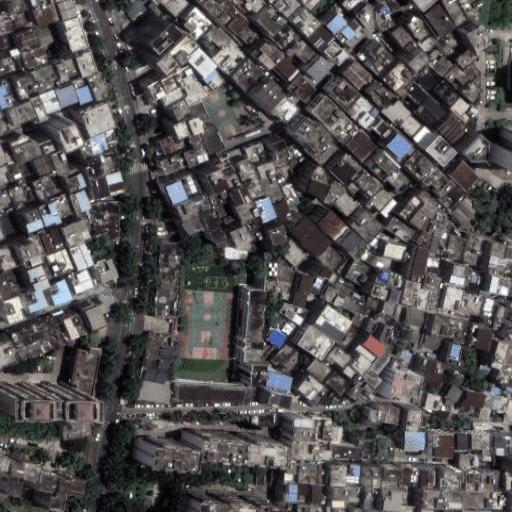building: (427, 51, 485, 105), (182, 428, 269, 462), (234, 286, 258, 380), (389, 184, 436, 231), (4, 316, 60, 355), (286, 112, 333, 158), (284, 208, 331, 254), (137, 57, 189, 98), (136, 24, 181, 67), (30, 465, 77, 505), (185, 491, 271, 512), (72, 346, 101, 407), (139, 330, 171, 383), (292, 155, 333, 196), (325, 146, 365, 187), (172, 382, 247, 402), (243, 33, 282, 71), (302, 300, 341, 338), (362, 143, 400, 181), (68, 97, 105, 135), (340, 90, 377, 128), (354, 38, 391, 75), (417, 94, 454, 131), (398, 142, 435, 179), (324, 109, 361, 146), (345, 165, 382, 202), (289, 321, 327, 357), (252, 156, 283, 199), (213, 36, 250, 72), (373, 56, 410, 92), (134, 439, 183, 466), (285, 2, 321, 38), (360, 76, 396, 112), (380, 366, 416, 402), (339, 58, 375, 93), (250, 0, 285, 35), (11, 230, 44, 267), (30, 169, 65, 203), (248, 70, 283, 104), (322, 75, 357, 109), (158, 168, 195, 200), (166, 187, 204, 218), (320, 285, 362, 313), (176, 1, 210, 35), (400, 79, 434, 113), (306, 94, 340, 128), (344, 128, 378, 162), (344, 204, 378, 238), (402, 7, 435, 42), (133, 12, 168, 45), (37, 110, 68, 147), (157, 242, 182, 286), (417, 127, 450, 160), (378, 128, 411, 161), (384, 163, 417, 196), (223, 4, 253, 40), (198, 17, 230, 49), (233, 55, 265, 87), (381, 95, 413, 127), (436, 112, 468, 144), (450, 123, 482, 155), (362, 180, 394, 212), (282, 31, 316, 61), (61, 15, 89, 51), (419, 160, 450, 192), (313, 136, 344, 168), (316, 176, 347, 208), (307, 203, 339, 234), (290, 370, 322, 401), (70, 300, 101, 331), (268, 17, 299, 48), (266, 340, 297, 371), (363, 346, 393, 378), (482, 333, 511, 366), (55, 214, 87, 243), (198, 0, 236, 24), (79, 127, 109, 157), (299, 47, 329, 77), (445, 90, 475, 120), (64, 184, 93, 215), (44, 250, 75, 279), (425, 74, 456, 103), (4, 96, 36, 124), (426, 311, 458, 339), (388, 16, 415, 49), (262, 131, 289, 164), (479, 271, 512, 298), (266, 89, 296, 118), (407, 57, 437, 86), (227, 151, 256, 181), (327, 220, 356, 250), (379, 208, 409, 237), (450, 161, 480, 190), (51, 307, 79, 338), (197, 122, 224, 154), (154, 148, 186, 175), (41, 280, 70, 309), (322, 37, 351, 66), (307, 23, 336, 52), (282, 71, 311, 100), (398, 110, 427, 139), (436, 254, 465, 283), (319, 367, 348, 396), (26, 60, 56, 88), (152, 283, 176, 318), (490, 129, 512, 167), (452, 290, 484, 316), (18, 39, 46, 68), (278, 235, 306, 264), (439, 179, 467, 208), (67, 241, 94, 271), (21, 261, 47, 292), (434, 277, 460, 308), (244, 463, 270, 494), (55, 56, 83, 84), (20, 288, 48, 316), (222, 213, 249, 242), (80, 152, 106, 182), (214, 156, 238, 188), (401, 243, 424, 276), (364, 113, 392, 140), (334, 188, 361, 216), (343, 256, 370, 284), (325, 344, 353, 371), (54, 80, 80, 109), (4, 130, 30, 159), (187, 101, 213, 130), (376, 237, 405, 263), (195, 203, 219, 234), (0, 239, 21, 274), (270, 54, 297, 81), (374, 190, 400, 218), (34, 226, 56, 259), (3, 69, 28, 98), (242, 173, 267, 202), (326, 483, 362, 503), (478, 290, 501, 321), (29, 150, 56, 176), (458, 18, 484, 45), (83, 70, 108, 98), (174, 208, 202, 233), (396, 301, 424, 326), (409, 353, 438, 377), (497, 339, 512, 385), (317, 6, 343, 32), (355, 329, 382, 354), (37, 198, 61, 226), (281, 433, 310, 456), (48, 142, 70, 172), (460, 487, 490, 509), (6, 23, 32, 48), (98, 146, 123, 172), (57, 166, 82, 192), (85, 260, 110, 286), (446, 41, 471, 67), (303, 357, 329, 382), (75, 50, 99, 77), (14, 203, 38, 230), (268, 192, 292, 219), (444, 233, 468, 260), (418, 426, 445, 450), (279, 180, 302, 208), (58, 416, 91, 435), (203, 186, 228, 211), (372, 321, 397, 346), (69, 267, 93, 293), (430, 463, 456, 487), (39, 87, 62, 114), (191, 163, 214, 190), (470, 322, 493, 349), (393, 73, 417, 98), (7, 183, 30, 209), (157, 132, 183, 155), (253, 195, 276, 221), (266, 0, 299, 18), (479, 255, 506, 277), (282, 413, 309, 435), (298, 456, 320, 483), (499, 49, 512, 94), (379, 269, 403, 293), (346, 377, 370, 401), (433, 173, 456, 198), (374, 483, 397, 508), (52, 193, 73, 220), (229, 184, 252, 208), (260, 215, 284, 238), (453, 196, 477, 219), (422, 392, 445, 416), (358, 292, 381, 316), (461, 386, 486, 408), (186, 130, 207, 156), (360, 278, 386, 299), (234, 26, 257, 49), (334, 15, 357, 38), (455, 465, 478, 488), (353, 0, 377, 22), (422, 331, 446, 353), (440, 337, 462, 361), (309, 435, 331, 459), (414, 485, 439, 506), (451, 317, 471, 343), (357, 460, 377, 486), (296, 482, 322, 502), (329, 443, 359, 460), (461, 429, 484, 451), (364, 250, 388, 271), (460, 265, 484, 286), (410, 462, 431, 486), (401, 280, 421, 305), (428, 220, 453, 240), (398, 406, 418, 431), (263, 370, 289, 389), (166, 0, 193, 18), (255, 382, 282, 400), (237, 201, 259, 223), (89, 176, 112, 197), (484, 240, 507, 261), (438, 486, 461, 507), (105, 167, 125, 191), (487, 387, 507, 411), (350, 340, 374, 360), (72, 77, 91, 102), (339, 459, 358, 484), (397, 48, 418, 70), (160, 97, 182, 118), (178, 142, 199, 164), (484, 429, 505, 451), (477, 466, 497, 489), (7, 9, 31, 28), (492, 300, 510, 325), (322, 458, 340, 483), (458, 57, 479, 78), (412, 122, 432, 144), (279, 303, 302, 322), (45, 222, 63, 246), (29, 93, 46, 118), (348, 352, 369, 372), (378, 405, 399, 425), (295, 272, 314, 294), (392, 462, 411, 484), (162, 115, 182, 135), (365, 265, 385, 285), (427, 235, 448, 254), (302, 259, 324, 277), (243, 139, 266, 156), (283, 455, 299, 479), (445, 426, 461, 450), (175, 109, 194, 129), (265, 327, 285, 346), (376, 461, 393, 483), (282, 478, 298, 501), (0, 333, 13, 361), (418, 34, 438, 52), (357, 368, 377, 386), (307, 415, 324, 436), (0, 164, 16, 186), (375, 0, 398, 15), (420, 272, 438, 291), (460, 249, 478, 268), (338, 0, 364, 13), (360, 485, 375, 507), (224, 245, 249, 258), (0, 136, 12, 163), (445, 386, 464, 403), (500, 391, 512, 417), (28, 126, 45, 144), (274, 157, 292, 174), (376, 299, 394, 316), (381, 288, 399, 305), (414, 231, 432, 248), (362, 318, 380, 335), (292, 500, 317, 512), (464, 321, 477, 344), (416, 287, 430, 308), (402, 430, 416, 451), (292, 291, 310, 307), (458, 453, 479, 466), (441, 397, 457, 414), (478, 360, 494, 376), (479, 393, 491, 414), (502, 240, 512, 265), (499, 320, 512, 339), (343, 364, 359, 379), (353, 309, 368, 325), (489, 489, 501, 509), (479, 454, 497, 466), (501, 262, 512, 281), (330, 425, 341, 443), (277, 500, 293, 512), (504, 488, 512, 512), (503, 469, 512, 489), (341, 502, 358, 512), (502, 454, 512, 470), (279, 320, 291, 333), (325, 501, 339, 512), (368, 410, 378, 424), (505, 430, 512, 450), (414, 505, 433, 512), (311, 276, 321, 289), (505, 304, 512, 322), (377, 507, 397, 512), (400, 505, 414, 512), (459, 507, 478, 512), (359, 507, 378, 512), (477, 508, 492, 512), (491, 509, 504, 512)
